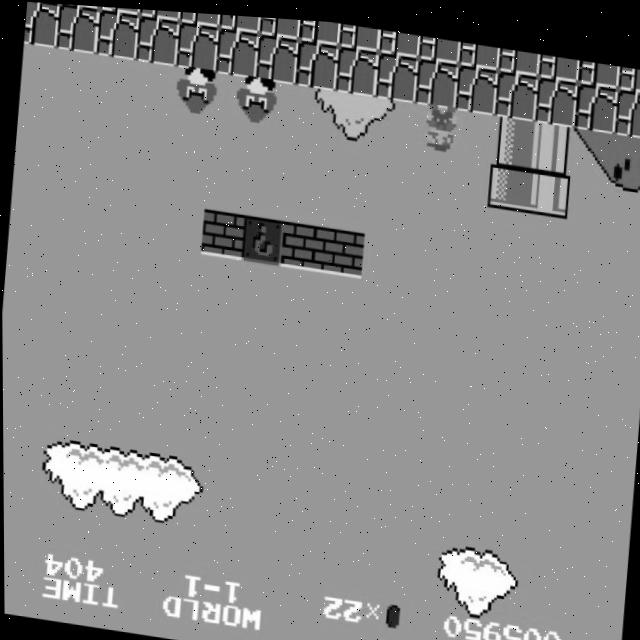1- brick_block: (319, 222, 364, 274), (200, 205, 245, 257), (279, 217, 324, 268)
11- little_mario: (418, 95, 465, 150)
13- mystery_block: (239, 211, 284, 262)
14- pipe: (530, 114, 575, 166), (490, 109, 535, 160)
15- pipe_head: (486, 153, 532, 205), (526, 159, 571, 210)
17- undestructible_block: (533, 68, 579, 120), (573, 74, 619, 125), (454, 57, 499, 109), (254, 29, 299, 81), (175, 18, 220, 70), (494, 63, 539, 114), (414, 52, 459, 103), (374, 46, 419, 97), (334, 41, 379, 92), (294, 35, 339, 86), (215, 24, 260, 75), (135, 13, 180, 64), (95, 7, 140, 58), (55, 3, 100, 52), (23, 1, 60, 48), (613, 79, 640, 130), (418, 29, 461, 58), (577, 52, 620, 80), (537, 46, 580, 74), (497, 41, 540, 69), (458, 35, 501, 63), (378, 24, 421, 52), (338, 19, 381, 47), (298, 16, 341, 41), (258, 14, 301, 36), (218, 11, 261, 30), (178, 9, 221, 25), (617, 57, 640, 85), (138, 7, 181, 18), (99, 5, 142, 13)
8- goomba: (233, 69, 281, 125), (174, 61, 221, 117)
